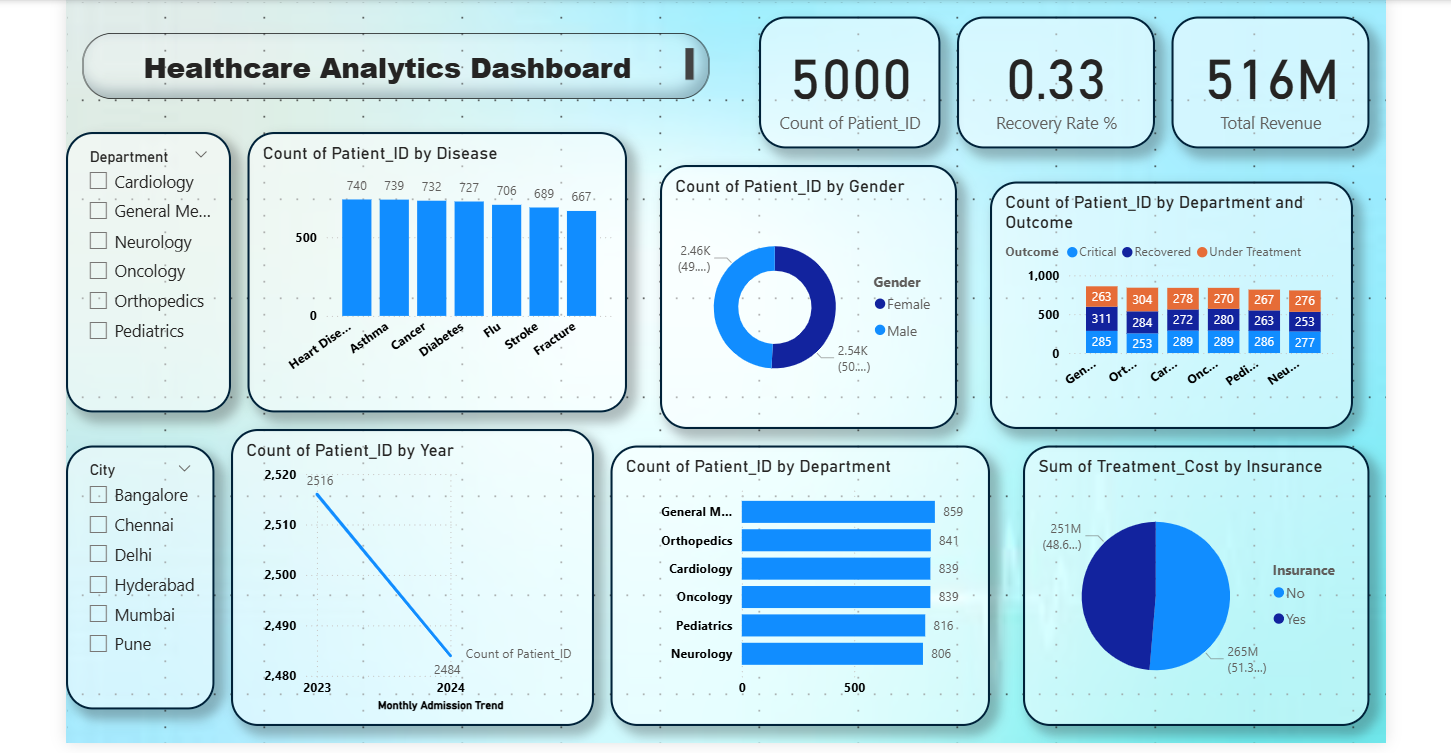

Layout of this report page (visuals, bound fields, positions):
{"tool":"powerbi","page":{"name":"Page 1","canvas":[1280,720],"ordinal":0},"visuals":[{"type":"lineChart","fields":{"Category":["Healthcare_Analytics_5000_Records.Admission_Date.Variation.Date Hierarchy.Year","Healthcare_Analytics_5000_Records.Admission_Date.Variation.Date Hierarchy.Quarter"],"Y":["CountNonNull(Healthcare_Analytics_5000_Records.Patient_ID)"]},"box":[160,416,352,288],"z":0},{"type":"barChart","fields":{"Y":["CountNonNull(Healthcare_Analytics_5000_Records.Patient_ID)"],"Category":["Healthcare_Analytics_5000_Records.Department"]},"box":[528,432,368,272],"z":1000},{"type":"pieChart","fields":{"Y":["Sum(Healthcare_Analytics_5000_Records.Treatment_Cost)"],"Category":["Healthcare_Analytics_5000_Records.Insurance"]},"box":[928,432,336,272],"z":2000},{"type":"card","fields":{"Values":["Healthcare_Analytics_5000_Records.Total Revenue"]},"box":[1072,16,192,128],"z":3000},{"type":"card","fields":{"Values":["Healthcare_Analytics_5000_Records.Recovery Rate %"]},"box":[864,16,192,128],"z":4000},{"type":"card","fields":{"Values":["CountNonNull(Healthcare_Analytics_5000_Records.Patient_ID)"]},"box":[672,16,176,128],"z":5000},{"type":"textbox","box":[16,32,608,64],"z":6000},{"type":"columnChart","fields":{"Category":["Healthcare_Analytics_5000_Records.Disease"],"Y":["CountNonNull(Healthcare_Analytics_5000_Records.Patient_ID)"]},"box":[176,128,368,272],"z":7000},{"type":"columnChart","fields":{"Category":["Healthcare_Analytics_5000_Records.Department"],"Y":["CountNonNull(Healthcare_Analytics_5000_Records.Patient_ID)"],"Series":["Healthcare_Analytics_5000_Records.Outcome"]},"box":[896,176,352,240],"z":8000},{"type":"donutChart","fields":{"Category":["Healthcare_Analytics_5000_Records.Gender"],"Y":["CountNonNull(Healthcare_Analytics_5000_Records.Patient_ID)"]},"box":[576,160,288,256],"z":9000},{"type":"slicer","fields":{"Values":["Healthcare_Analytics_5000_Records.Department"]},"box":[0,128,160,272],"z":10000},{"type":"slicer","fields":{"Values":["Healthcare_Analytics_5000_Records.City"]},"box":[0,432,144,256],"z":11000}]}

Visuals, with their boxes in screenshot pixels (x1, y1, x2, y2):
lineChart - Healthcare_Analytics_5000_Records.Admission_Date.Variation.Date Hierarchy.Year x Healthcare_Analytics_5000_Records.Admission_Date.Variation.Date Hierarchy.Quarter: 225, 425, 588, 721
barChart - CountNonNull(Healthcare_Analytics_5000_Records.Patient_ID) x Healthcare_Analytics_5000_Records.Department: 604, 441, 983, 721
pieChart - Sum(Healthcare_Analytics_5000_Records.Treatment_Cost) x Healthcare_Analytics_5000_Records.Insurance: 1016, 441, 1362, 721
card - Healthcare_Analytics_5000_Records.Total Revenue: 1165, 13, 1362, 145
card - Healthcare_Analytics_5000_Records.Recovery Rate %: 950, 13, 1148, 145
card - CountNonNull(Healthcare_Analytics_5000_Records.Patient_ID): 753, 13, 934, 145
textbox: 77, 29, 703, 95
columnChart - Healthcare_Analytics_5000_Records.Disease x CountNonNull(Healthcare_Analytics_5000_Records.Patient_ID): 242, 128, 621, 408
columnChart - Healthcare_Analytics_5000_Records.Department x CountNonNull(Healthcare_Analytics_5000_Records.Patient_ID): 983, 177, 1346, 425
donutChart - Healthcare_Analytics_5000_Records.Gender x CountNonNull(Healthcare_Analytics_5000_Records.Patient_ID): 654, 161, 950, 425
slicer - Healthcare_Analytics_5000_Records.Department: 60, 128, 225, 408
slicer - Healthcare_Analytics_5000_Records.City: 60, 441, 209, 705
